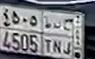0: (21, 15, 29, 53)
4: (2, 8, 11, 50)
5: (11, 10, 20, 52), (29, 15, 38, 54)
J: (62, 18, 73, 55)
N: (53, 18, 61, 54)
T: (44, 16, 52, 54)
